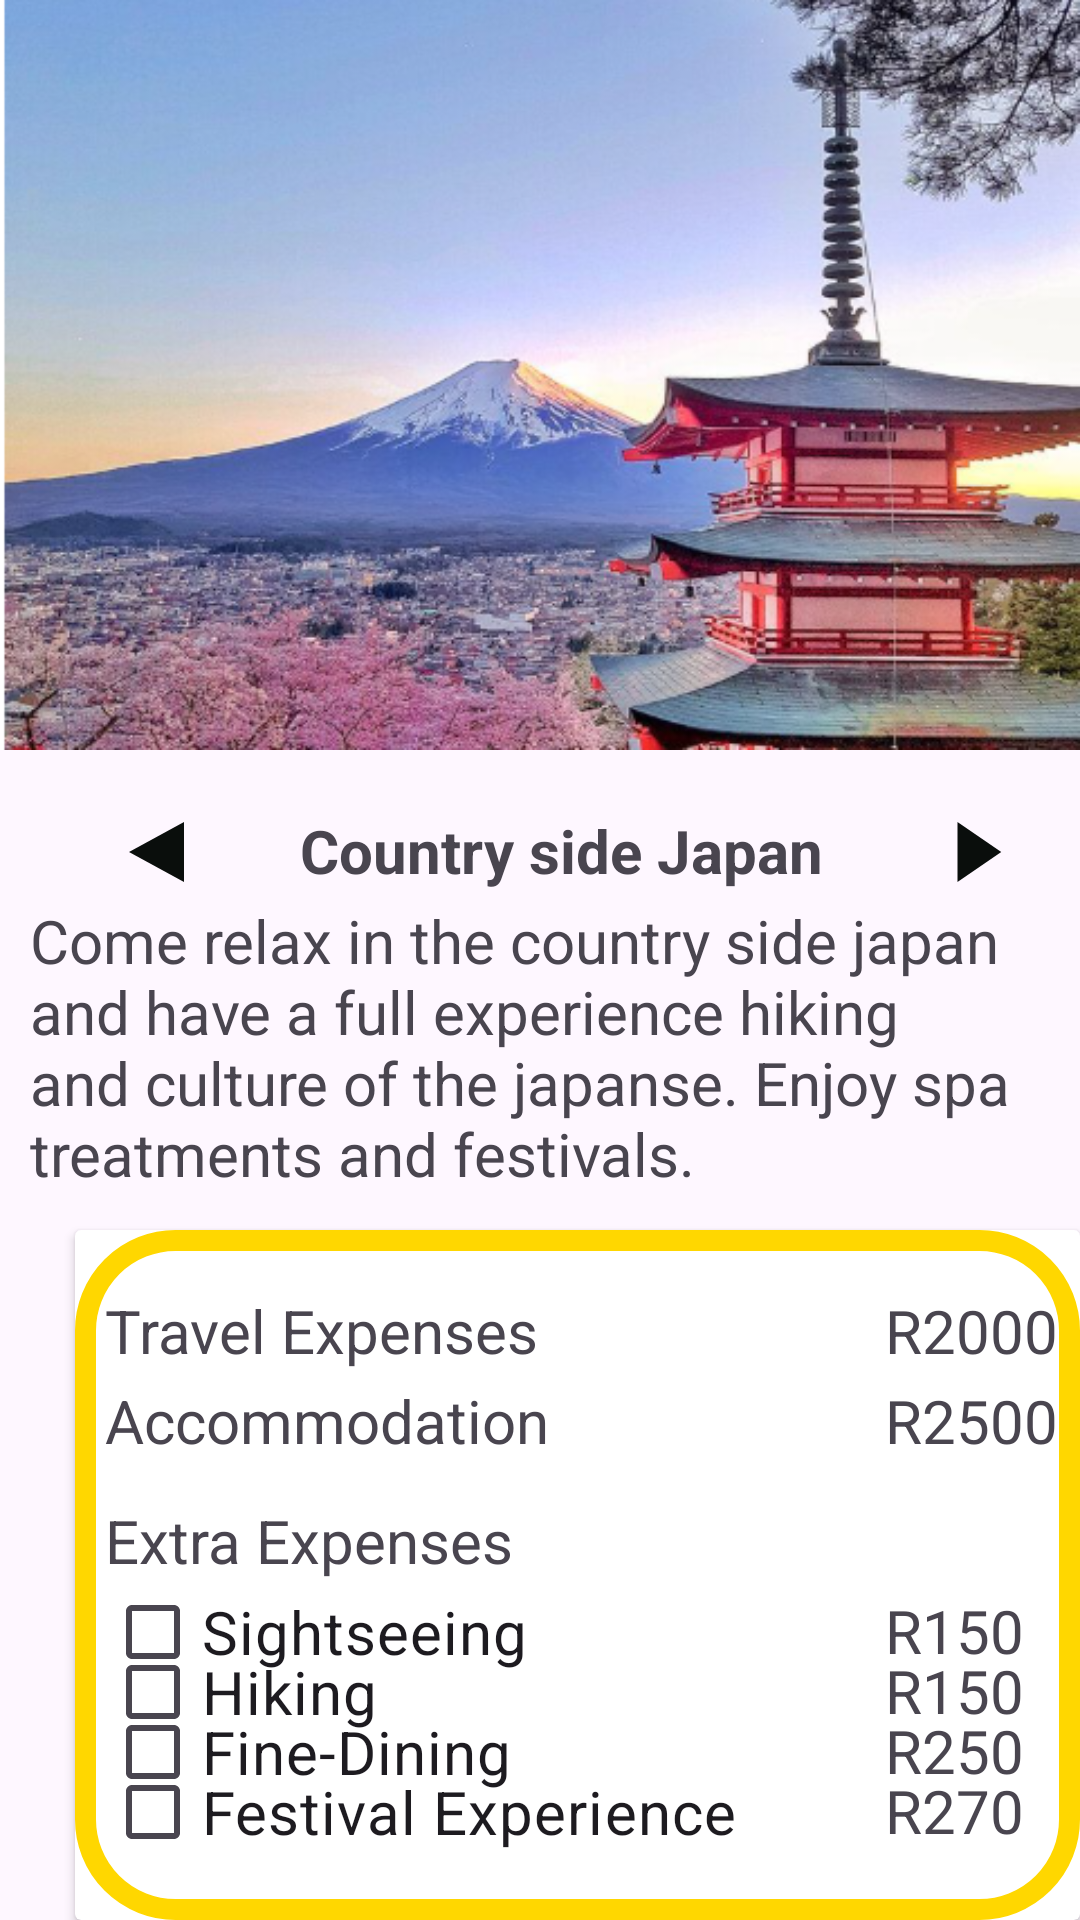

Icon bounding boxes for this 1080px x 1920px phone screenshot, format (x1, y1, x2, y2):
arrow left: (129, 822, 184, 882)
arrow right: (957, 822, 1001, 882)
